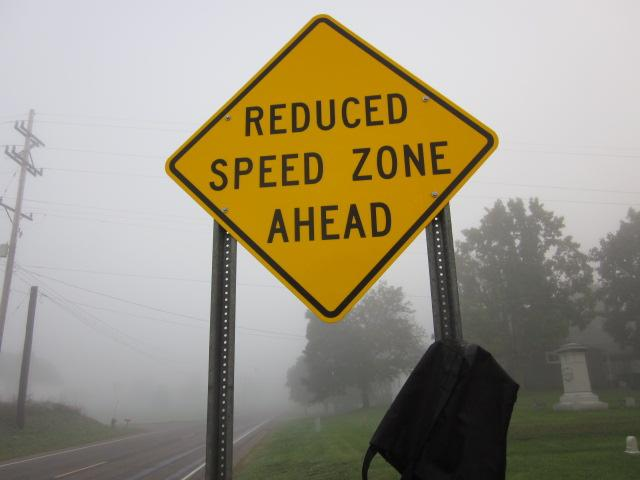warning: (166, 10, 501, 326)
